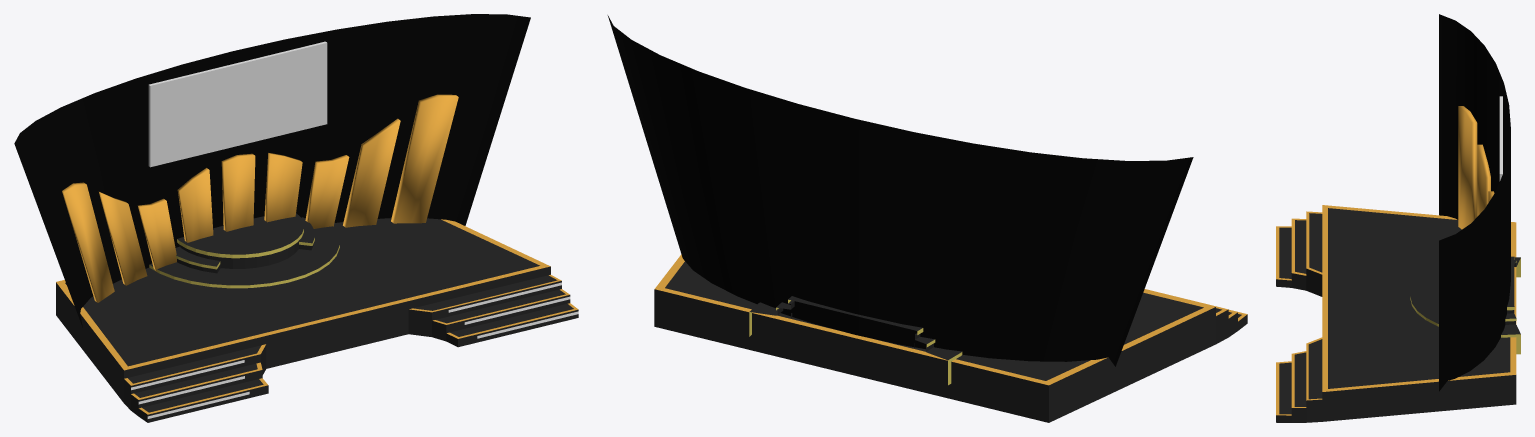
File: Stage.fbx
The picture shows the model from 3 angles, left to right: view 1: azimuth 30°, elevation 25°; view 2: azimuth 150°, elevation 25°; view 3: azimuth 270°, elevation 25°; orthographic projection. The views are drawn at different scales.
Parts seen in each view (by area): view 1: Cube, Cylinder.001, Cylinder.002, Cube.001, Cylinder; view 2: Cylinder.001, Cube, Cylinder; view 3: Cube, Cylinder.001, Cylinder.002, Cylinder, Cube.001.
Boxes of the visible parts, bbox=[...] form: Cube: bbox=[56, 218, 578, 422]; Cylinder.001: bbox=[14, 14, 530, 327]; Cylinder.002: bbox=[62, 94, 458, 302]; Cube.001: bbox=[148, 41, 327, 167]; Cylinder: bbox=[149, 213, 339, 288]; Cylinder.001: bbox=[607, 15, 1193, 366]; Cube: bbox=[654, 254, 1247, 422]; Cylinder: bbox=[749, 296, 962, 385]; Cube: bbox=[1276, 205, 1516, 422]; Cylinder.001: bbox=[1439, 14, 1510, 391]; Cylinder.002: bbox=[1458, 106, 1494, 229]; Cylinder: bbox=[1410, 256, 1520, 354]; Cube.001: bbox=[1499, 96, 1502, 181].
Bounding box in the file's own units: 1934 × 800 × 883.
